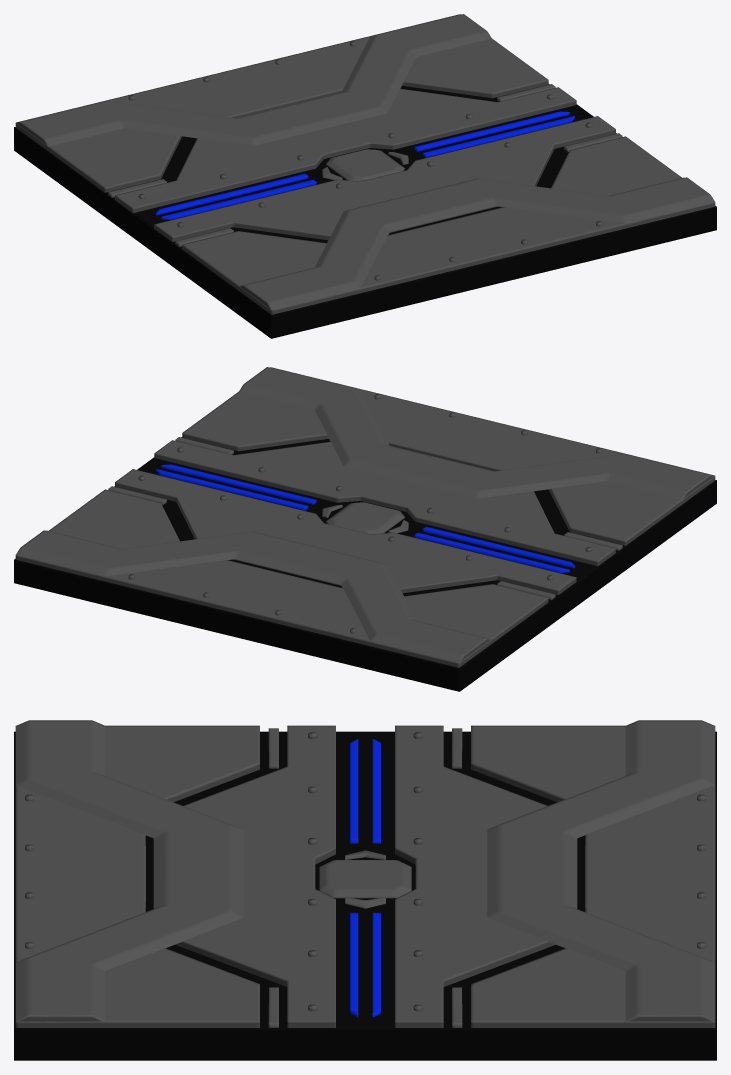
The model's file is sifi5.fbx.
The picture shows the model from 3 angles, top to bottom: view 1: azimuth 30°, elevation 25°; view 2: azimuth 150°, elevation 25°; view 3: azimuth 270°, elevation 25°; orthographic projection. The views are drawn at different scales.
Parts seen in each view (by area): view 1: SciFi_panel_003; view 2: SciFi_panel_003; view 3: SciFi_panel_003.
Boxes of the visible parts, x1,y1,x2,y2 form: SciFi_panel_003: (14,14,716,338); SciFi_panel_003: (14,367,716,691); SciFi_panel_003: (14,720,716,1060).
Bounding box in the file's own units: 200 × 13.71 × 200.
